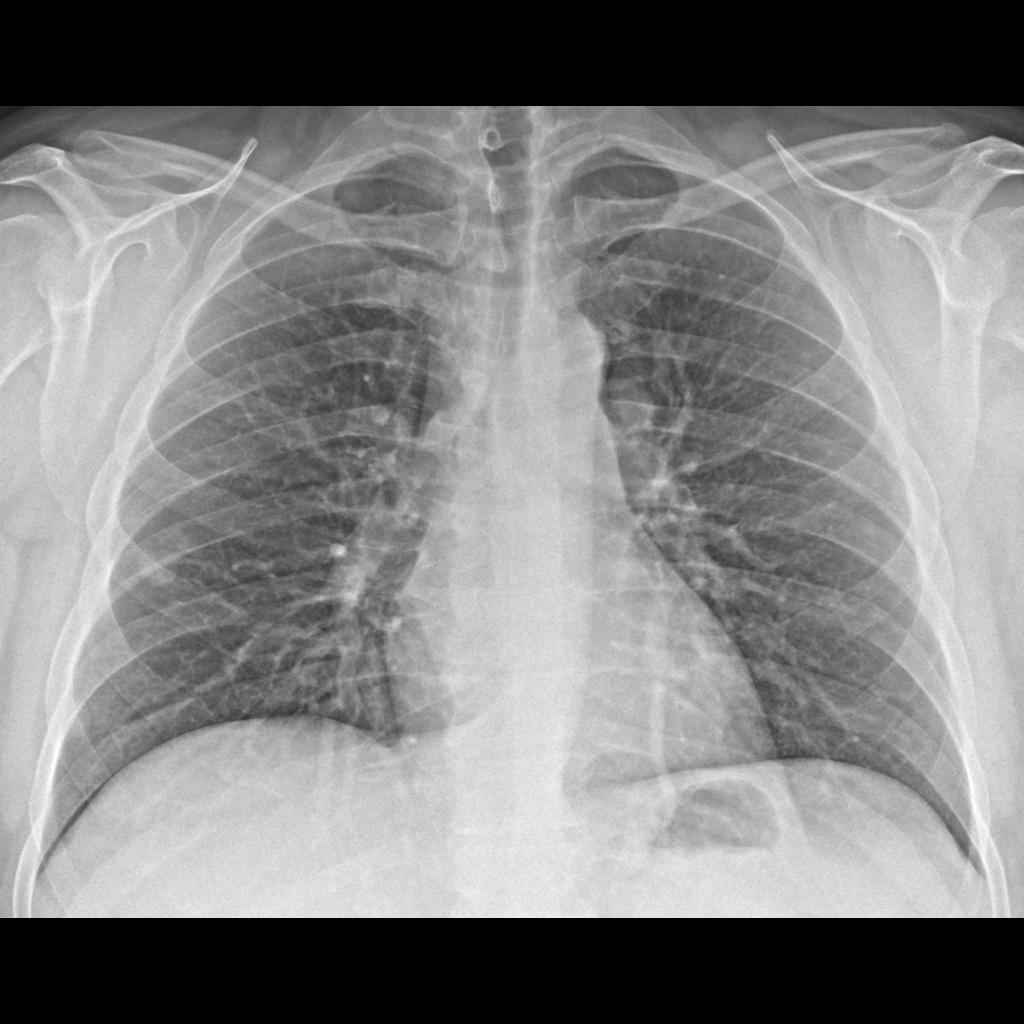Nodule: (132, 536, 188, 594)
